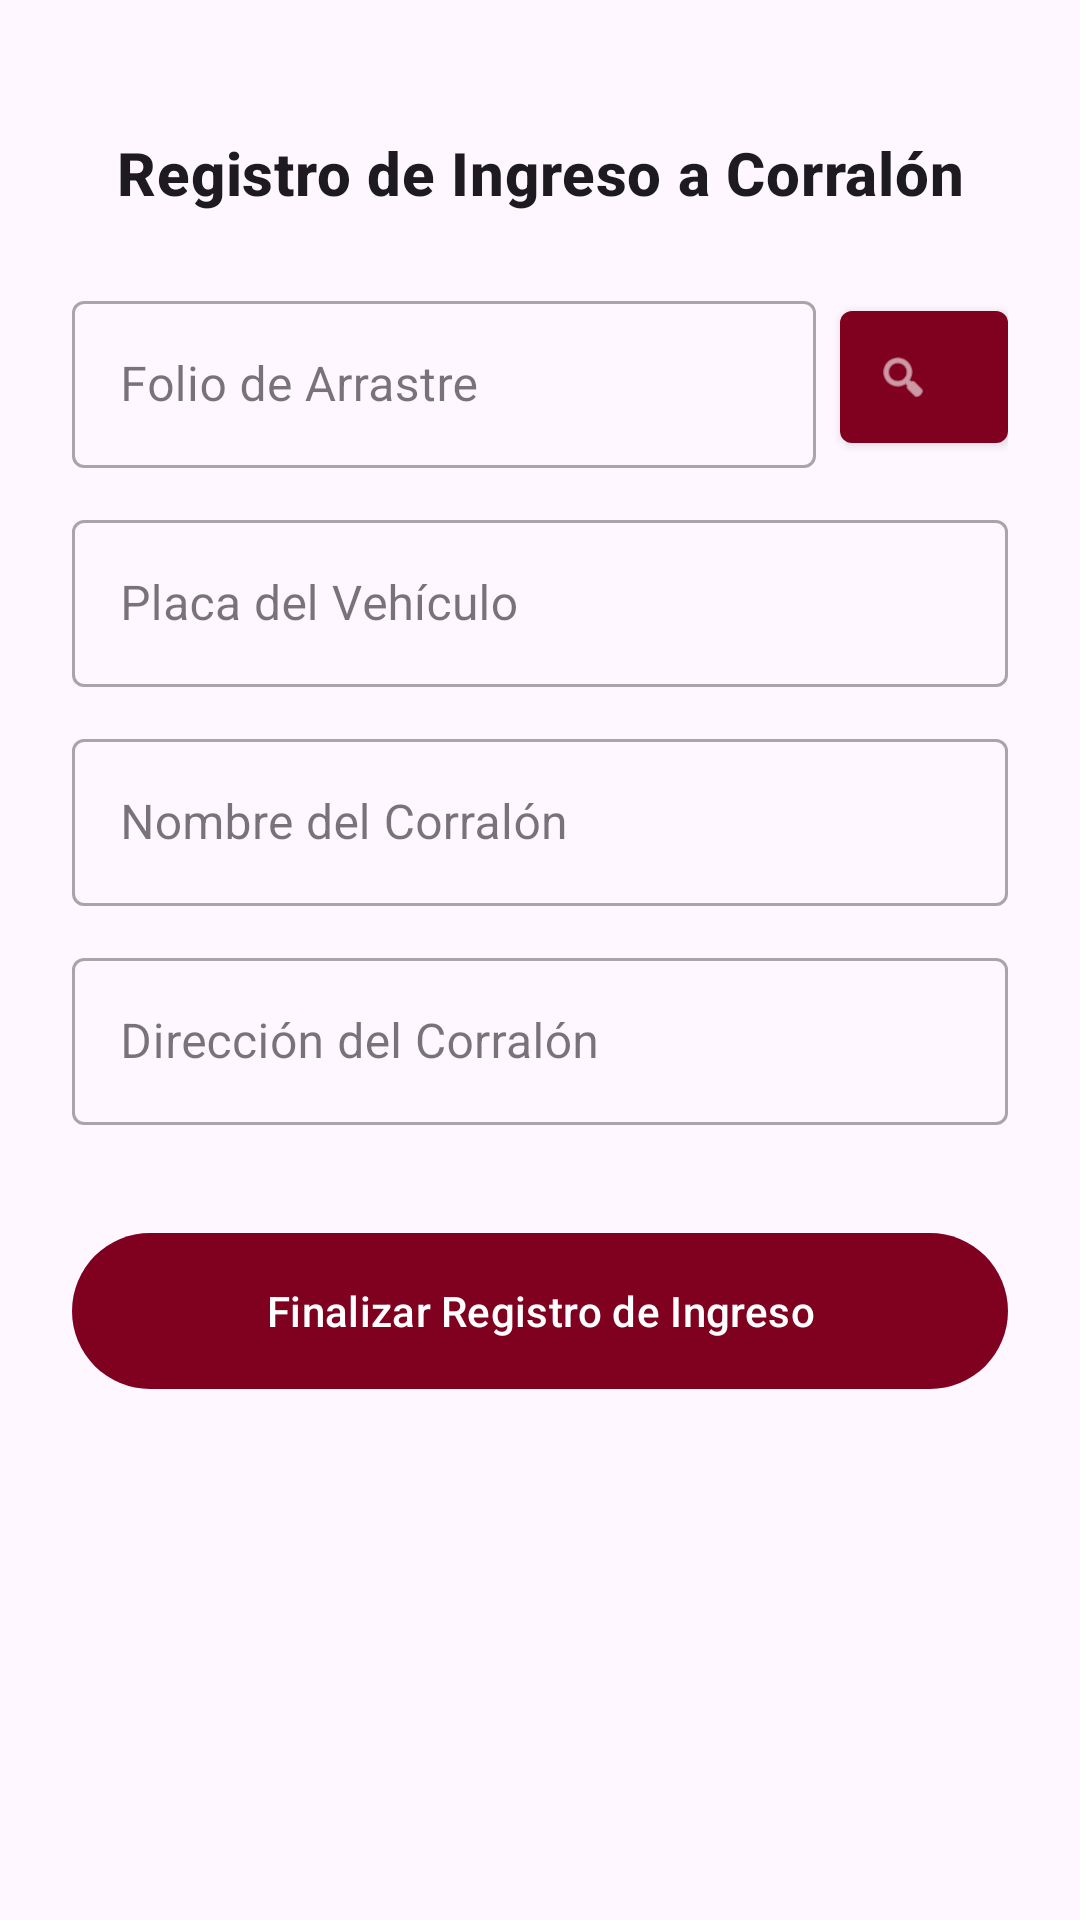

Named icons in this screenshot (1080*1920) and their bounding boxes, bbox(x1, y1, x2, y2):
search: bbox(840, 311, 1008, 443)
